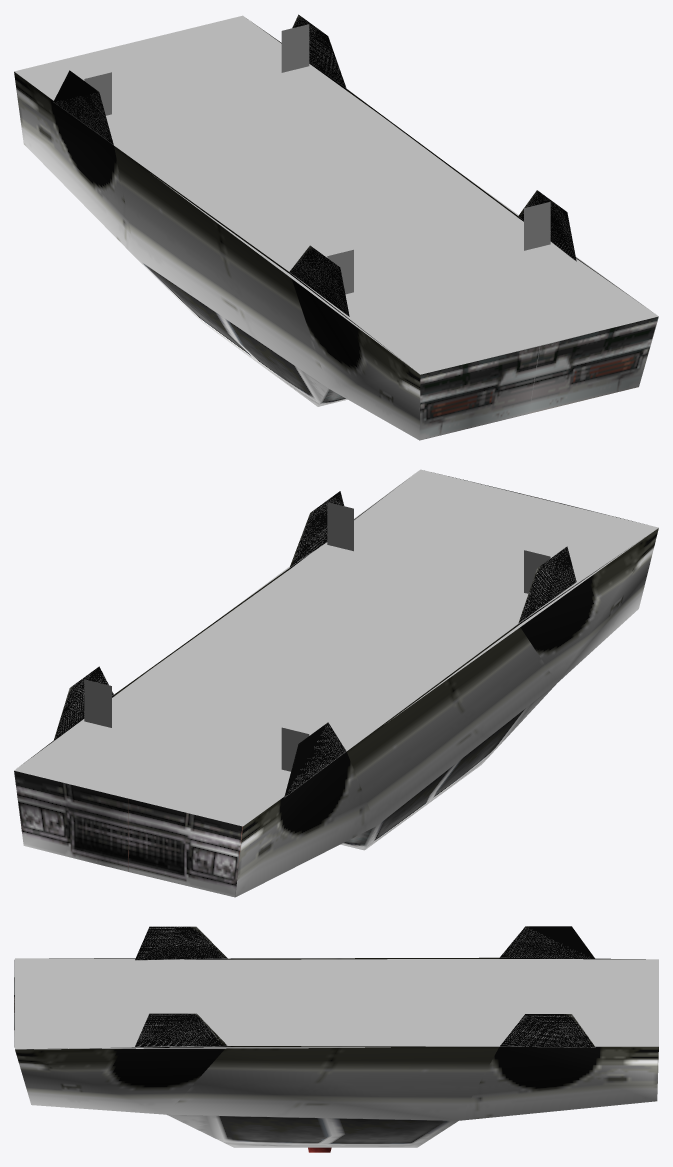
The model's file is CHICAGO_model0_low.obj.
3 views of the same model, one above another, from view 1: azimuth 30°, elevation 25°; view 2: azimuth 150°, elevation 25°; view 3: azimuth 270°, elevation 25° (orthographic). The views are drawn at different scales.
Visible parts, largest first — view 1: CHICAGO_model0_low; view 2: CHICAGO_model0_low; view 3: CHICAGO_model0_low.
Part boxes in pixels (x1,y1,x2,y2): CHICAGO_model0_low: (14, 14, 658, 440); CHICAGO_model0_low: (14, 469, 658, 897); CHICAGO_model0_low: (14, 926, 658, 1152).
Size of the model in its own units: 252 by 210 by 748.
